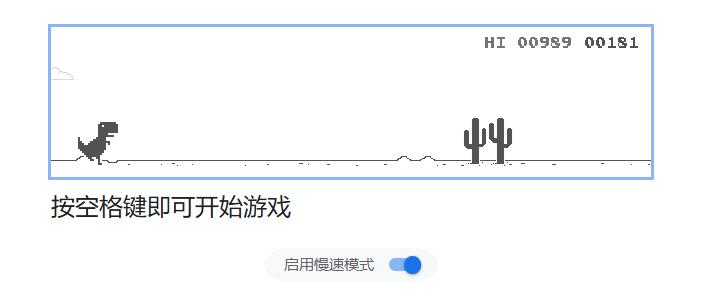cactus: (460, 111, 512, 168)
dino: (76, 119, 121, 167)
